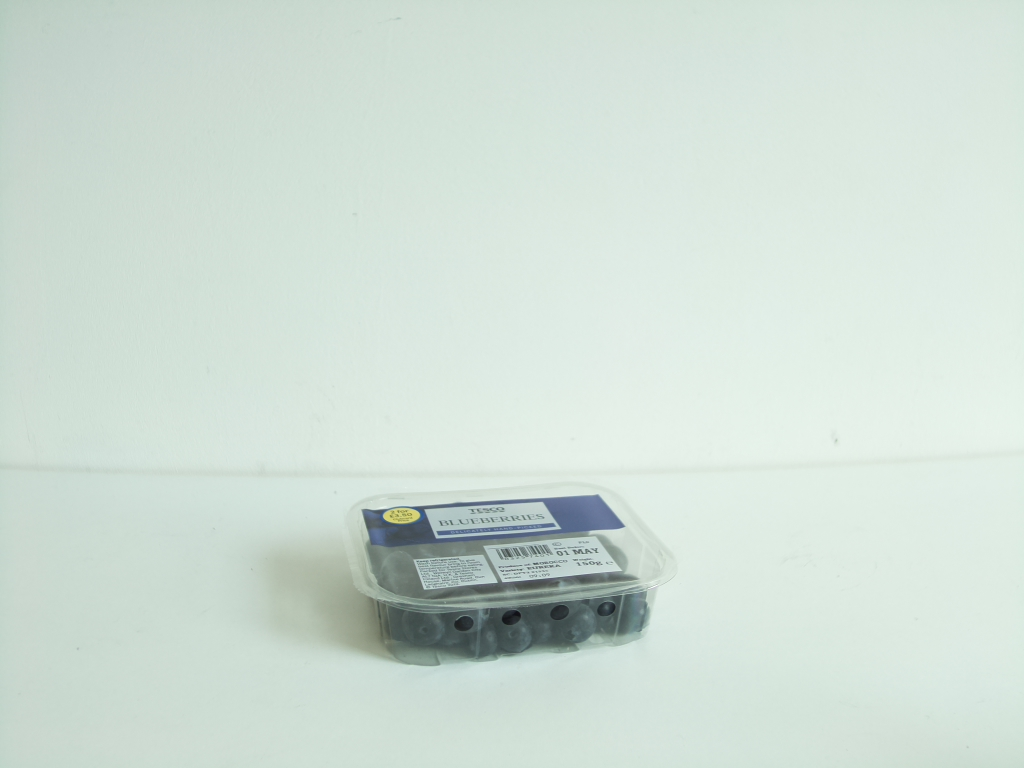soft-fruit: (345, 484, 675, 668)
